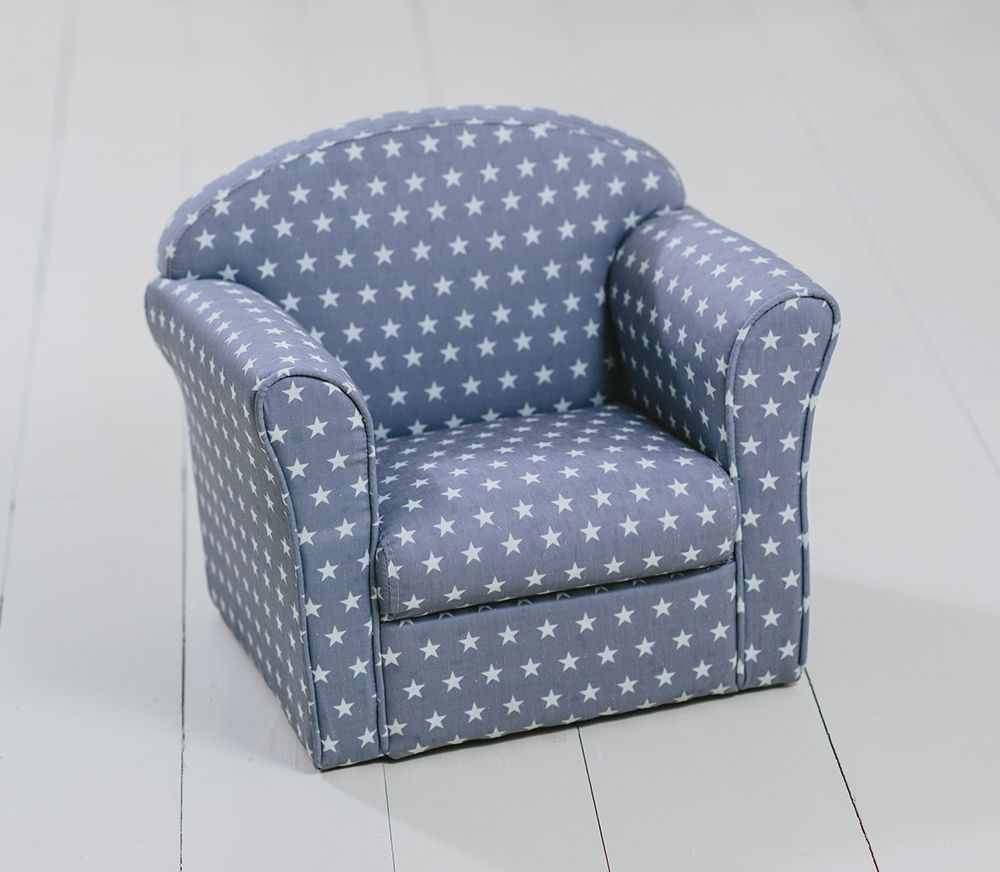chairs: (146, 110, 840, 767)
